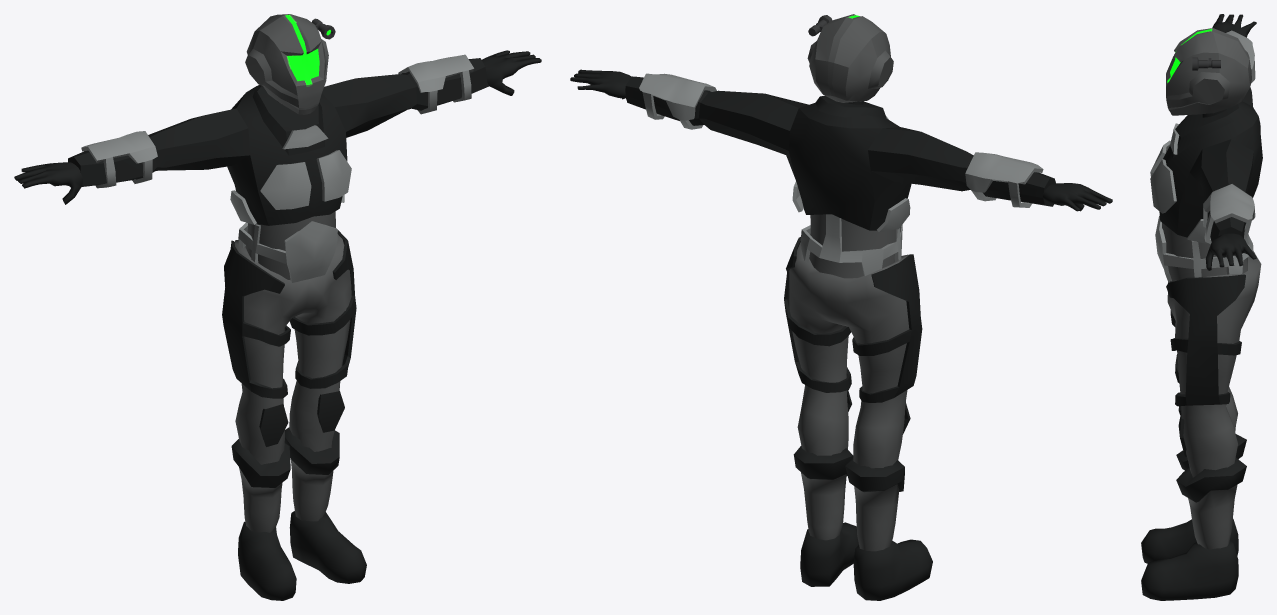
Rendered from marine_green.gltf.
3 views of the same model, side by side, from view 1: azimuth 30°, elevation 25°; view 2: azimuth 150°, elevation 25°; view 3: azimuth 270°, elevation 25° (orthographic). The views are drawn at different scales.
Visible parts, largest first — view 1: pasted__polySurface1952, polySurface1296, polySurface1298, polySurface1308, polySurface1310, polySurface1307, polySurface1301, polySurface1313, polySurface1304, polySurface1309, polySurface1300, pCylinder1; view 2: pasted__polySurface1952, polySurface1296, polySurface1310, polySurface1308, polySurface1298, polySurface1307, polySurface1301, pCylinder1, polySurface1309, polySurface1304, polySurface1313; view 3: pasted__polySurface1952, polySurface1296, polySurface1308, polySurface1298, polySurface1307, polySurface1310, polySurface1301, polySurface1309, polySurface1304, polySurface1313, pCylinder1, pCylinder3 (+2 smaller).
Part boxes in pixels (bbox=[...]): pasted__polySurface1952: bbox=[68, 58, 488, 225]; polySurface1296: bbox=[234, 234, 351, 464]; polySurface1298: bbox=[222, 228, 356, 398]; polySurface1308: bbox=[238, 511, 366, 600]; polySurface1310: bbox=[231, 427, 339, 532]; polySurface1307: bbox=[245, 14, 328, 114]; polySurface1301: bbox=[81, 54, 474, 188]; polySurface1313: bbox=[230, 150, 351, 224]; polySurface1304: bbox=[238, 221, 337, 282]; polySurface1309: bbox=[14, 50, 541, 204]; polySurface1300: bbox=[259, 391, 344, 446]; pCylinder1: bbox=[245, 211, 335, 279]; pasted__polySurface1952: bbox=[625, 76, 1055, 230]; polySurface1296: bbox=[789, 242, 909, 468]; polySurface1310: bbox=[793, 446, 904, 551]; polySurface1308: bbox=[800, 522, 932, 600]; polySurface1298: bbox=[784, 237, 922, 402]; polySurface1307: bbox=[807, 14, 893, 104]; polySurface1301: bbox=[639, 73, 1043, 207]; pCylinder1: bbox=[809, 214, 901, 278]; polySurface1309: bbox=[570, 69, 1112, 211]; polySurface1304: bbox=[800, 214, 902, 275]; polySurface1313: bbox=[792, 181, 910, 231]; pasted__polySurface1952: bbox=[1159, 30, 1262, 241]; polySurface1296: bbox=[1167, 251, 1261, 477]; polySurface1308: bbox=[1141, 519, 1238, 600]; polySurface1298: bbox=[1166, 274, 1245, 406]; polySurface1307: bbox=[1166, 28, 1251, 117]; polySurface1310: bbox=[1176, 433, 1246, 549]; polySurface1301: bbox=[1203, 30, 1255, 243]; polySurface1309: bbox=[1205, 14, 1256, 270]; polySurface1304: bbox=[1155, 216, 1253, 282]; polySurface1313: bbox=[1150, 140, 1210, 244]; pCylinder1: bbox=[1162, 223, 1247, 280]; pCylinder3: bbox=[1192, 57, 1220, 70].
Size of the model in its own units: 1.79 by 1.82 by 0.3684.
Materials: 1 (1 with a texture image).
